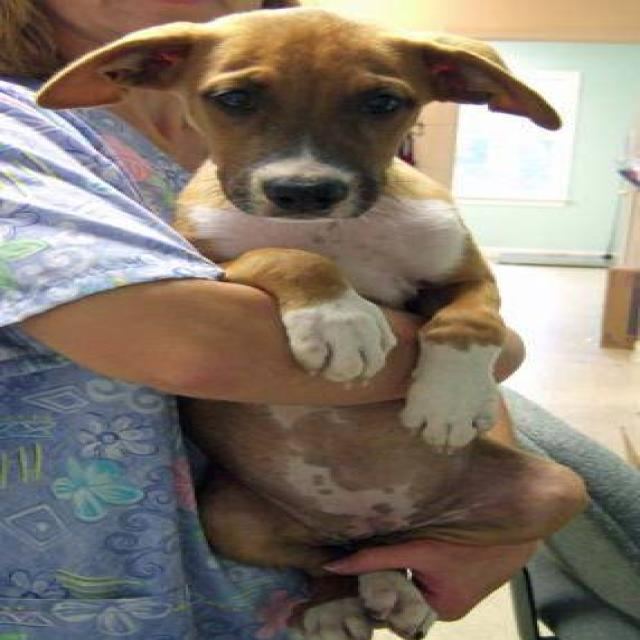dog: (31, 4, 586, 639)
